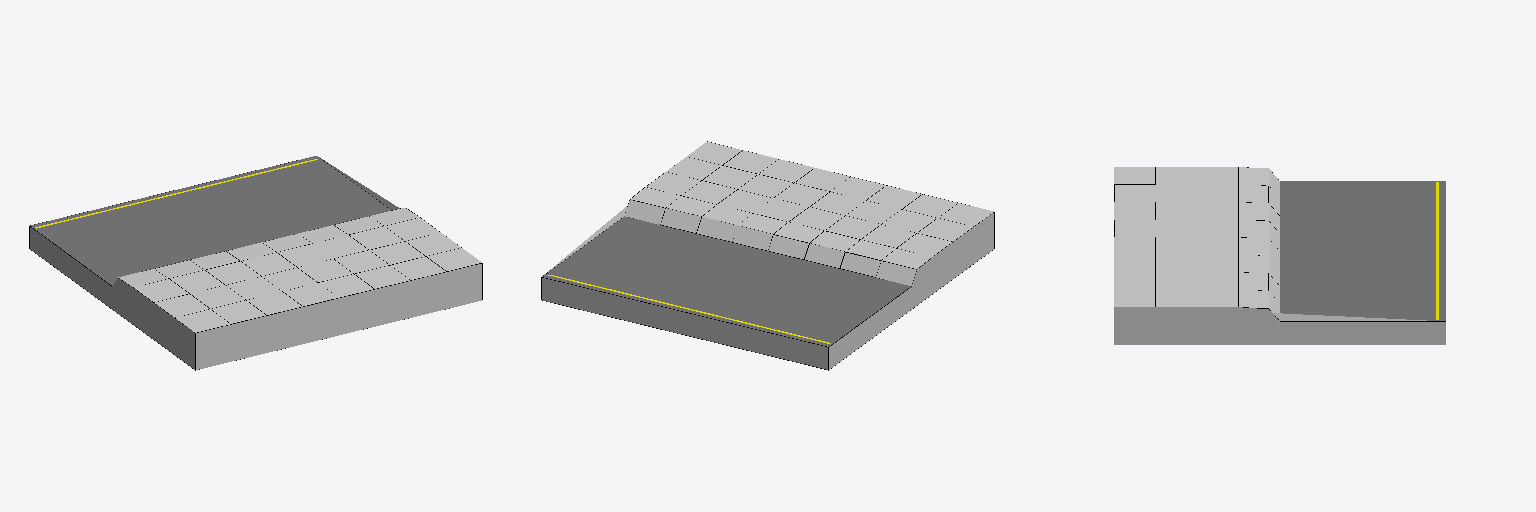
The picture shows the model from 3 angles: view 1: azimuth 30°, elevation 25°; view 2: azimuth 150°, elevation 25°; view 3: azimuth 270°, elevation 25°; orthographic projection.
Parts seen in each view (by area): view 1: sidewalk_Cube; view 2: sidewalk_Cube; view 3: sidewalk_Cube.
Part boxes in pixels (x1,y1,x2,y2): sidewalk_Cube: (29,156,482,370); sidewalk_Cube: (541,141,994,370); sidewalk_Cube: (1114,167,1445,344).
Size of the model in its own units: 16 by 2 by 16.
Materials: 1 (1 with a texture image).